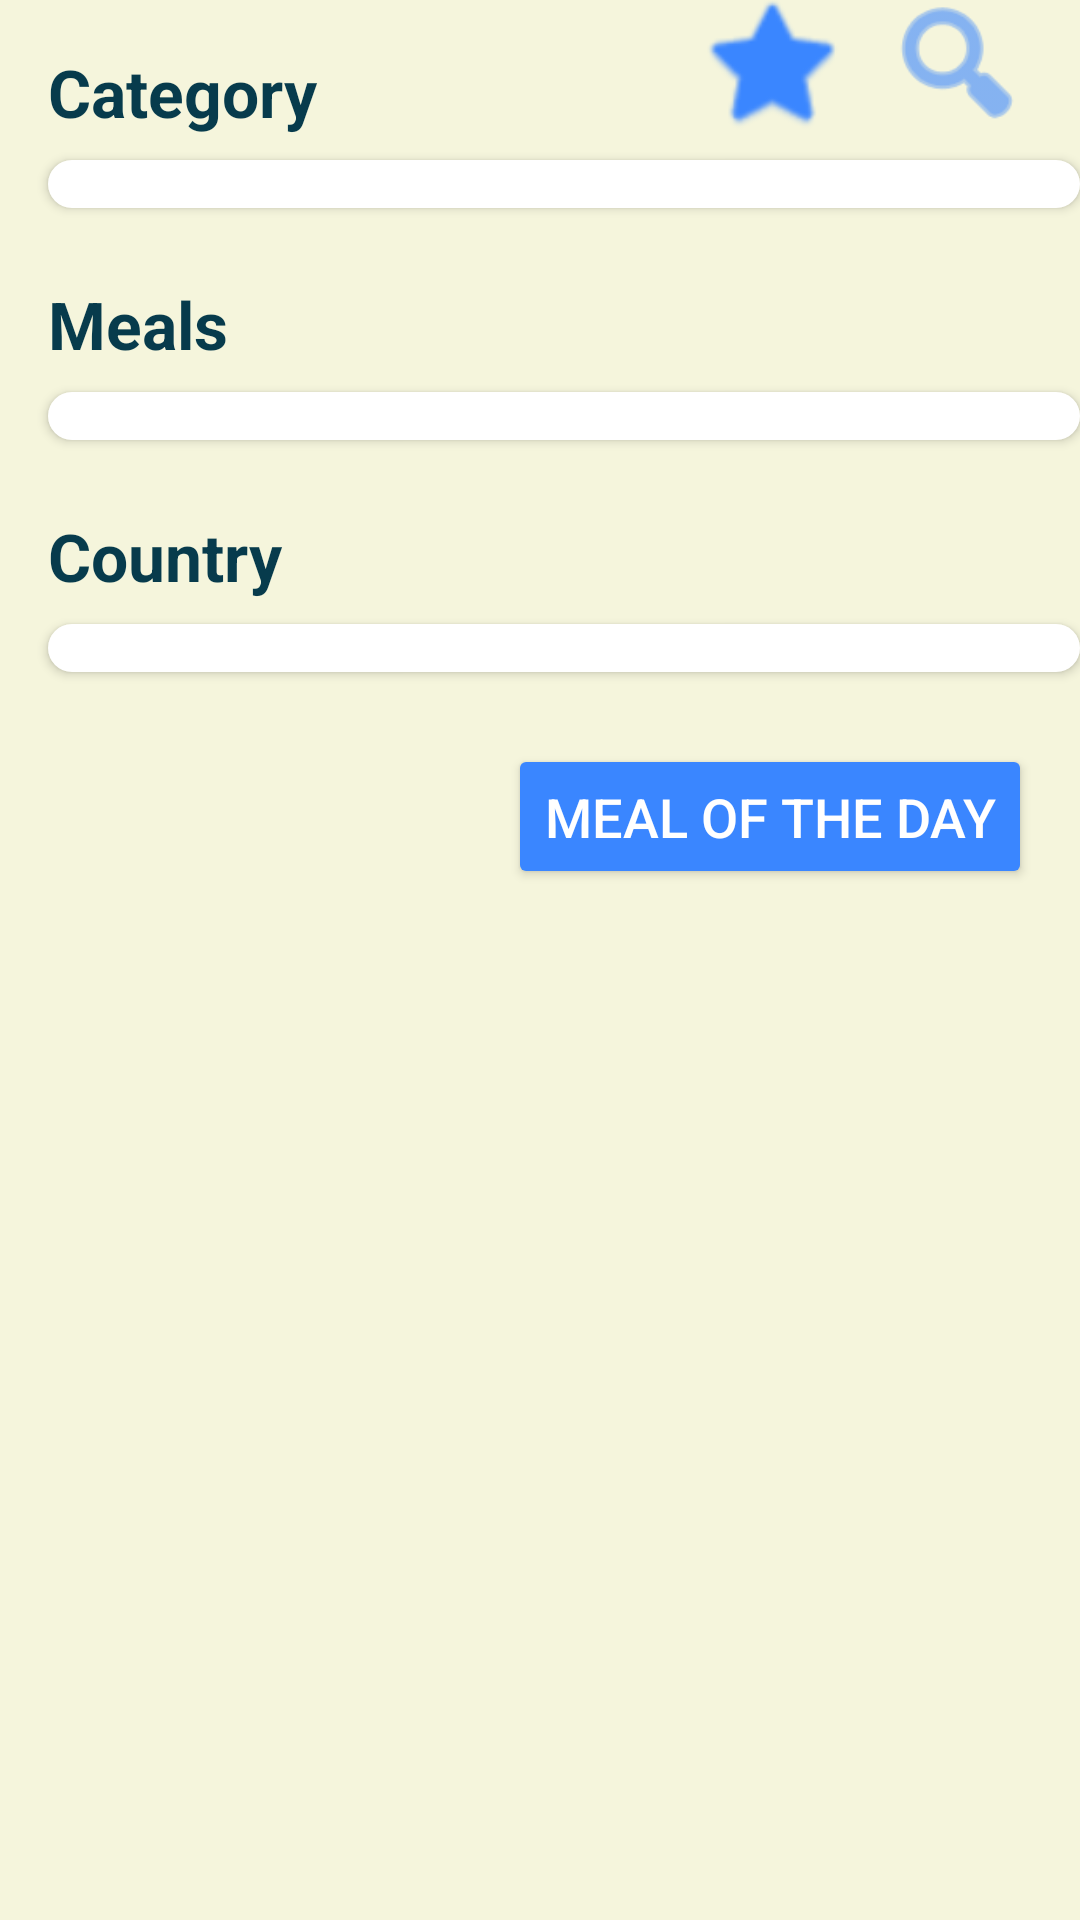

Icon bounding boxes for this 1080 × 1920 phone screenshot, format box=[x1, y1, x2, y2]:
search: box=[902, 7, 1012, 118]
star on: box=[710, 2, 835, 124]
